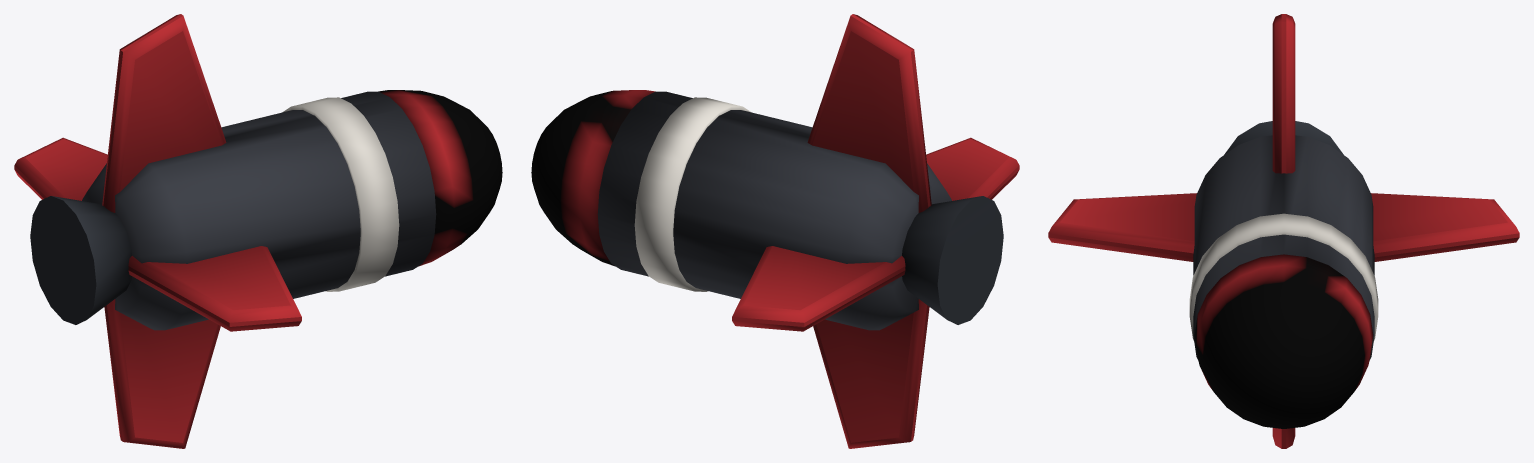
File: proj_missile.glb
The picture shows the model from 3 angles, left to right: view 1: azimuth 30°, elevation 25°; view 2: azimuth 150°, elevation 25°; view 3: azimuth 270°, elevation 25°; orthographic projection.
Parts seen in each view (by area): view 1: missile_mesh; view 2: missile_mesh; view 3: missile_mesh.
Boxes of the visible parts, left/top/right/bottom form: missile_mesh: left=14, top=14, right=502, bottom=448; missile_mesh: left=531, top=14, right=1019, bottom=448; missile_mesh: left=1048, top=14, right=1519, bottom=448.
Size of the model in its own units: 0.9183 by 0.884 by 0.884.
